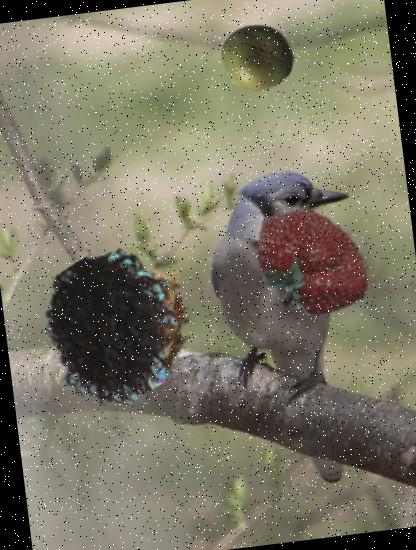Pineapple: (49, 246, 206, 403)
Pomelo: (216, 17, 297, 98)
Rambutan: (29, 245, 195, 410)
Strawberry: (238, 193, 380, 335)
